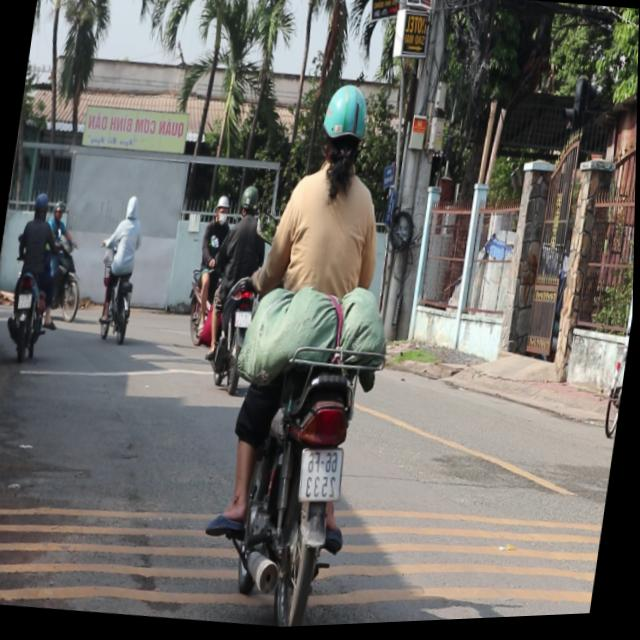helmet: (316, 81, 377, 178), (241, 186, 264, 218)
licenseplate: (199, 75, 427, 633), (202, 182, 279, 398)
nohelmet: (299, 448, 348, 509), (236, 312, 254, 329)
